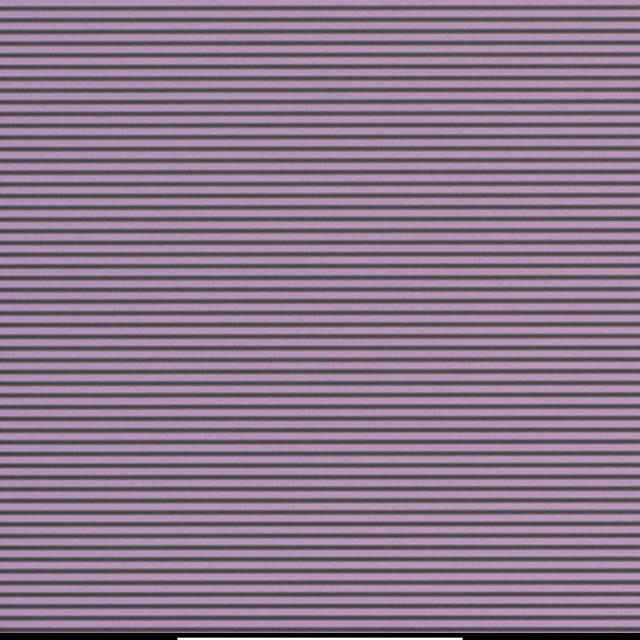nonvisual: (296, 314, 303, 325)
